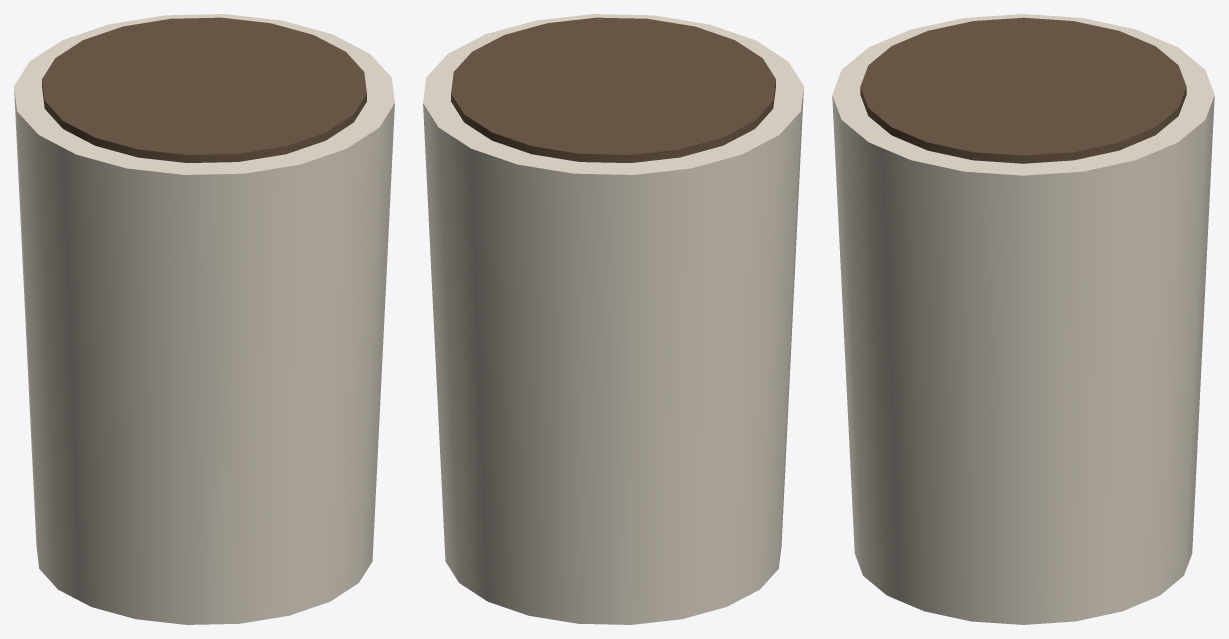
Rendered from bedroom_ref_bin.glb.
3 views of the same model, side by side, from view 1: azimuth 30°, elevation 25°; view 2: azimuth 150°, elevation 25°; view 3: azimuth 270°, elevation 25° (orthographic).
Bounding box in the file's own units: 0.34 × 0.458 × 0.34.
